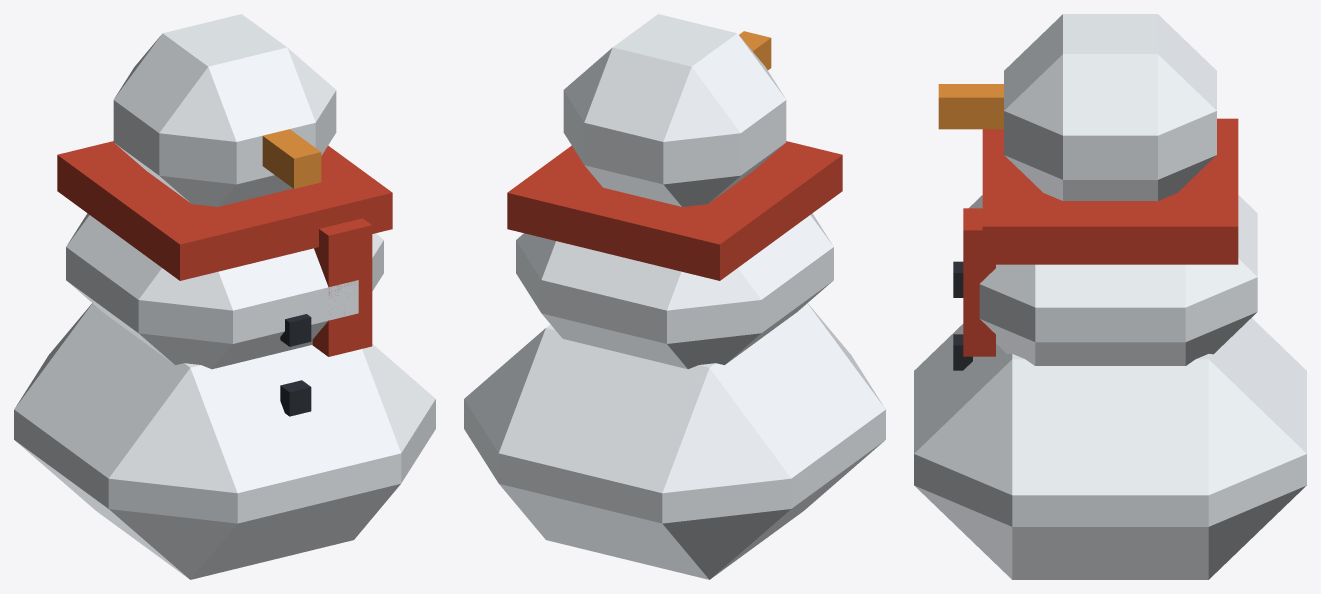
The model's file is env_r2_snowman.glb.
3 views of the same model, side by side, from view 1: azimuth 30°, elevation 25°; view 2: azimuth 150°, elevation 25°; view 3: azimuth 270°, elevation 25° (orthographic). The views are drawn at different scales.
Visible parts, largest first — view 1: env_r2_snowman; view 2: env_r2_snowman; view 3: env_r2_snowman.
Part boxes in pixels (x1,y1,x2,y2): env_r2_snowman: [14, 14, 435, 579]; env_r2_snowman: [464, 14, 885, 579]; env_r2_snowman: [914, 14, 1306, 579].
Size of the model in its own units: 1.2 by 1.7 by 1.2.
Materials: 1 (1 with a texture image).
